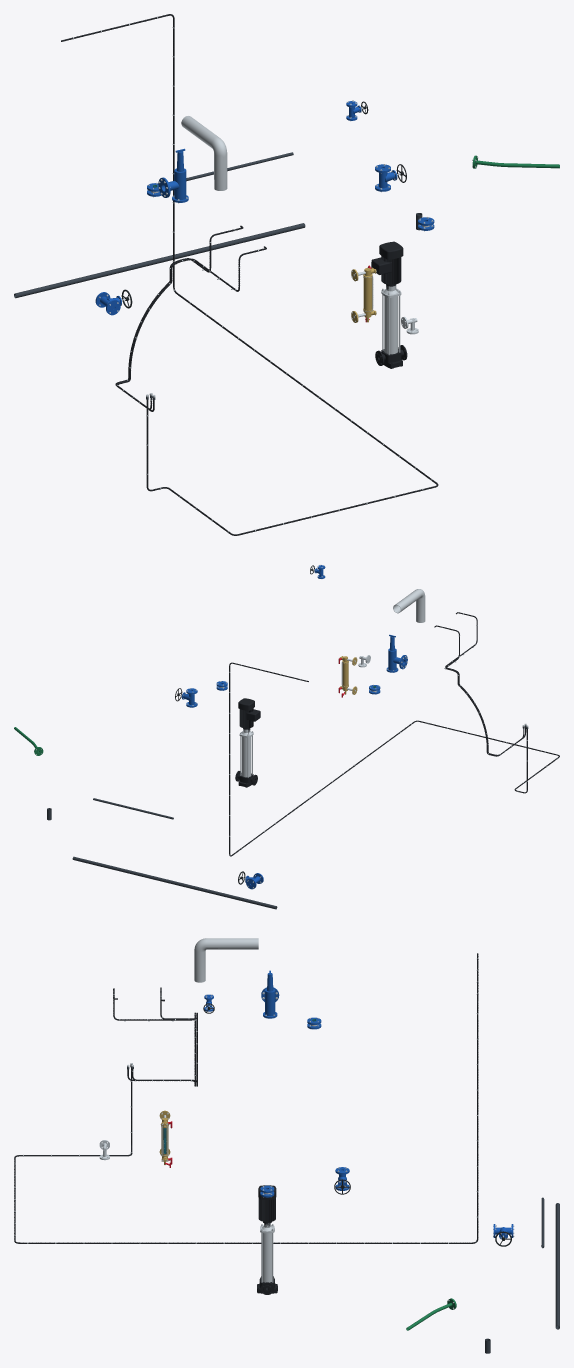
The model's file is s4000-6-BHcGSzk4.glb.
3 views of the same model, one above another, from view 1: azimuth 30°, elevation 25°; view 2: azimuth 150°, elevation 25°; view 3: azimuth 270°, elevation 25° (orthographic). The views are drawn at different scales.
Parts seen in each view (by area): view 1: mod_direct_drive_cable / black, bottom_discharge / dark, steam_rise / steel, pump_1 CAD solid 15, pump_1 CAD solid 2, safety_1 / blue, sight_glasses_2 / sight_glasses_2_0.npz, wiring_low_level_1 / black; view 2: mod_direct_drive_cable / black, bottom_discharge / dark, steam_rise / steel, pump_1 CAD solid 15, pump_1 CAD solid 2; view 3: mod_direct_drive_cable / black, steam_rise / steel, bottom_discharge / dark, pump_1 CAD solid 15, safety_1 / blue.
Part boxes in pixels (x1,y1,x2,y2): mod_direct_drive_cable / black: (61,14,438,535); bottom_discharge / dark: (14,223,305,298); steam_rise / steel: (181,116,227,190); pump_1 CAD solid 15: (371,241,403,285); pump_1 CAD solid 2: (384,296,398,354); safety_1 / blue: (158,148,188,202); sight_glasses_2 / sight_glasses_2_0.npz: (351,265,376,322); wiring_low_level_1 / black: (117,246,266,411); mod_direct_drive_cable / black: (229,662,559,856); bottom_discharge / dark: (72,856,277,909); steam_rise / steel: (393,589,425,622); pump_1 CAD solid 15: (238,698,260,728); pump_1 CAD solid 2: (241,736,251,777); mod_direct_drive_cable / black: (14,953,478,1243); steam_rise / steel: (194,938,258,982); bottom_discharge / dark: (555,1203,559,1329); pump_1 CAD solid 15: (258,1185,276,1222); safety_1 / blue: (261,970,279,1018).
Bounding box in the file's own units: 5.75 × 3.03 × 5.45.
